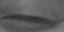RightEyeFatigue: (1, 7, 58, 32)
